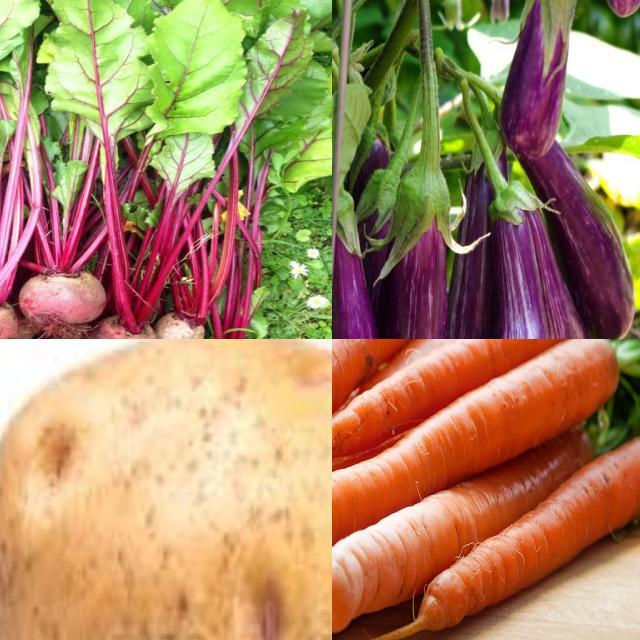beet: (1, 267, 221, 340)
carrot: (333, 340, 620, 563), (333, 427, 597, 639), (420, 435, 640, 635), (333, 340, 611, 481), (333, 340, 458, 620)
eggplant: (520, 128, 637, 340), (384, 157, 457, 340), (482, 175, 557, 340), (501, 1, 575, 159), (333, 181, 386, 340)
potato: (1, 340, 333, 640)
